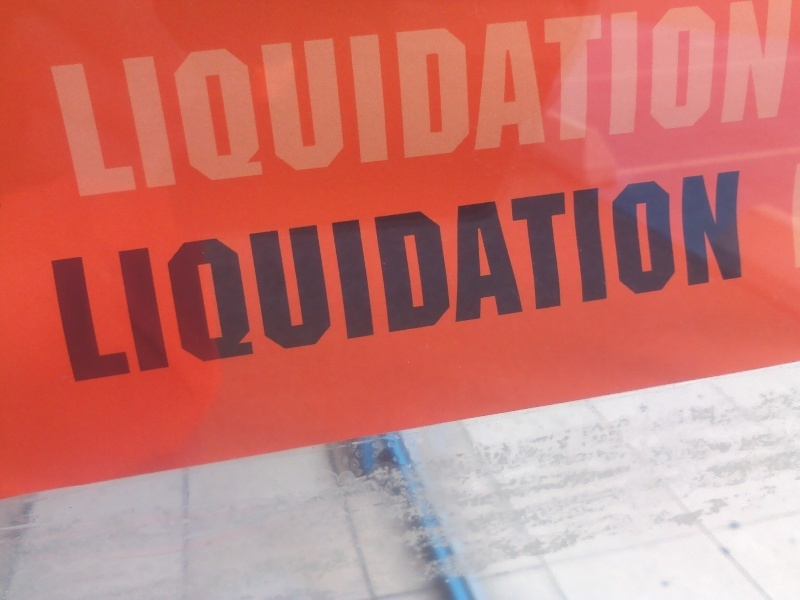text: (49, 169, 64, 385), (65, 169, 80, 385), (81, 169, 96, 385), (97, 169, 112, 385), (113, 169, 128, 385), (129, 169, 144, 385), (145, 169, 160, 385), (161, 169, 176, 385), (177, 169, 192, 385), (193, 169, 208, 385), (209, 169, 224, 385), (225, 169, 240, 385), (241, 169, 256, 385), (257, 169, 272, 385), (273, 169, 288, 385), (289, 169, 304, 385), (305, 169, 320, 385), (321, 169, 336, 385), (337, 169, 352, 385), (353, 169, 368, 385), (369, 169, 384, 385), (385, 169, 400, 385), (401, 169, 416, 385), (417, 169, 432, 385), (433, 169, 448, 385), (449, 169, 464, 385), (465, 169, 480, 385), (481, 169, 496, 385), (497, 169, 512, 385), (513, 169, 528, 385), (529, 169, 544, 385), (545, 169, 560, 385), (561, 169, 576, 385), (577, 169, 592, 385), (593, 169, 608, 385), (609, 169, 624, 385), (625, 169, 640, 385), (641, 169, 656, 385), (657, 169, 672, 385), (673, 169, 688, 385), (689, 169, 704, 385), (705, 169, 720, 385), (721, 169, 736, 385), (49, 1, 64, 198), (65, 1, 80, 198), (81, 1, 96, 198), (97, 1, 112, 198), (113, 1, 128, 198), (129, 1, 144, 198), (145, 1, 160, 198), (161, 1, 176, 198), (177, 1, 192, 198), (193, 1, 208, 198), (209, 1, 224, 198), (225, 1, 240, 198), (241, 1, 256, 198), (257, 1, 272, 198), (273, 1, 288, 198), (289, 1, 304, 198), (305, 1, 320, 198), (321, 1, 336, 198), (337, 1, 352, 198), (353, 1, 368, 198), (369, 1, 384, 198), (385, 1, 400, 198), (401, 1, 416, 198), (417, 1, 432, 198), (433, 1, 448, 198), (449, 1, 464, 198), (465, 1, 480, 198), (481, 1, 496, 198), (497, 1, 512, 198), (513, 1, 528, 198), (529, 1, 544, 198), (545, 1, 560, 198), (561, 1, 576, 198), (577, 1, 592, 198), (593, 1, 608, 198), (609, 1, 624, 198), (625, 1, 640, 198), (641, 1, 656, 198), (657, 1, 672, 198), (673, 1, 688, 198), (689, 1, 704, 198), (705, 1, 720, 198), (721, 1, 736, 198), (737, 1, 752, 198), (753, 1, 768, 198), (769, 1, 784, 198), (785, 1, 797, 198), (737, 169, 745, 385)
